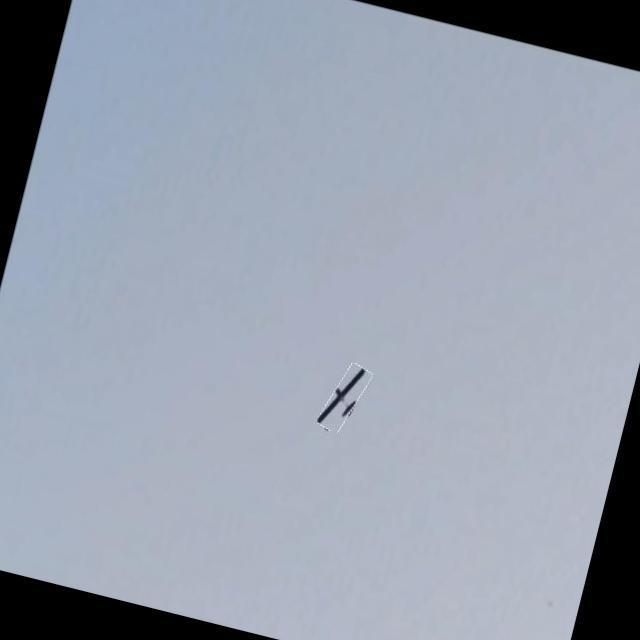iha: (323, 362, 349, 411)
